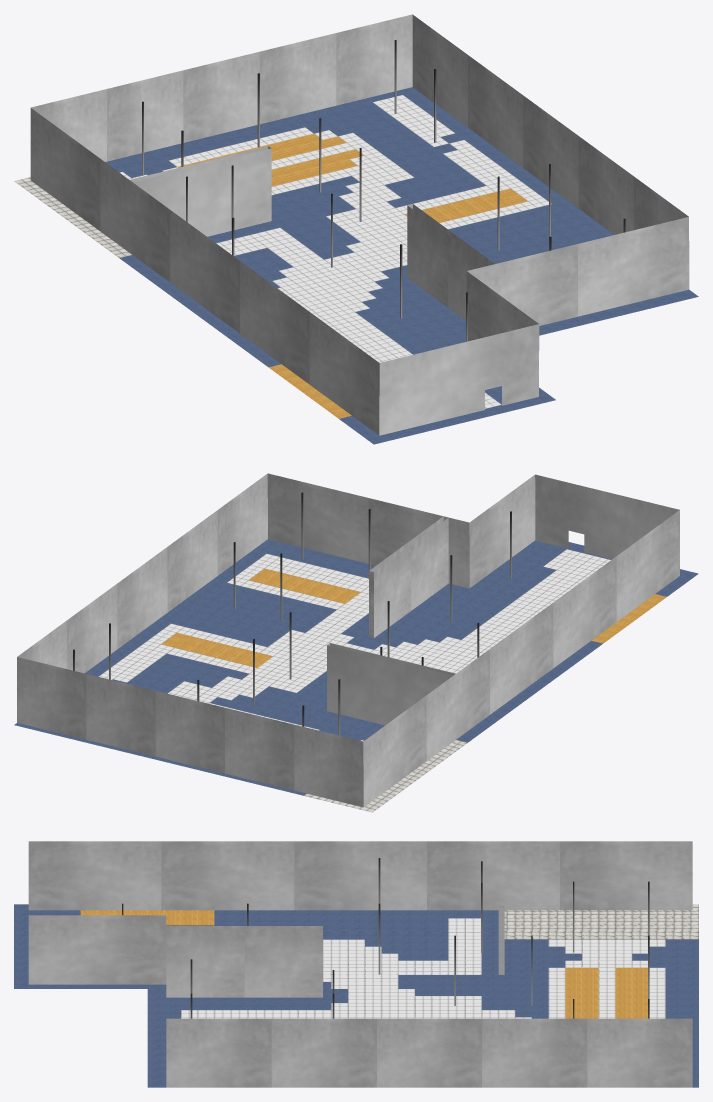
File: Floor_Lvl_1.fbx
The picture shows the model from 3 angles, top to bottom: view 1: azimuth 30°, elevation 25°; view 2: azimuth 150°, elevation 25°; view 3: azimuth 270°, elevation 25°; orthographic projection. The views are drawn at different scales.
Parts seen in each view (by area): view 1: polySurface429; view 2: polySurface429; view 3: polySurface429.
Part boxes in pixels (bbox=[...]): polySurface429: bbox=[14, 14, 698, 444]; polySurface429: bbox=[14, 473, 698, 812]; polySurface429: bbox=[14, 841, 698, 1087].
Size of the model in its own units: 52 by 9.34 by 82.
